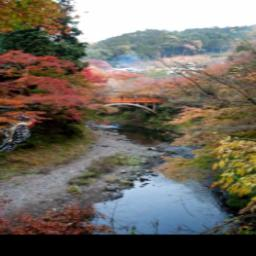Woodpecker: (0, 114, 36, 153)
